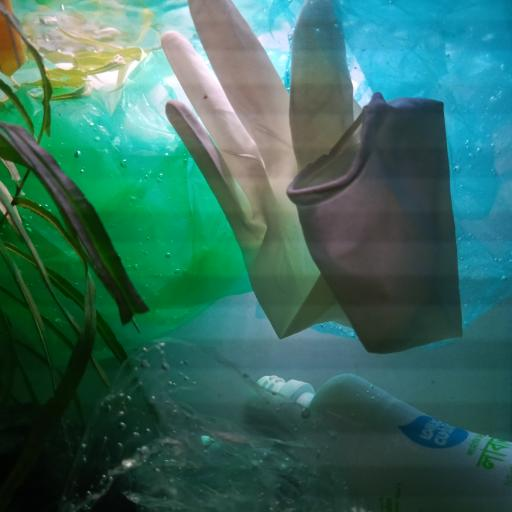glove: (160, 0, 463, 355)
plastic_bag: (158, 0, 510, 347), (0, 73, 252, 370), (53, 337, 365, 512)
plastic_bottle: (251, 373, 512, 512)
